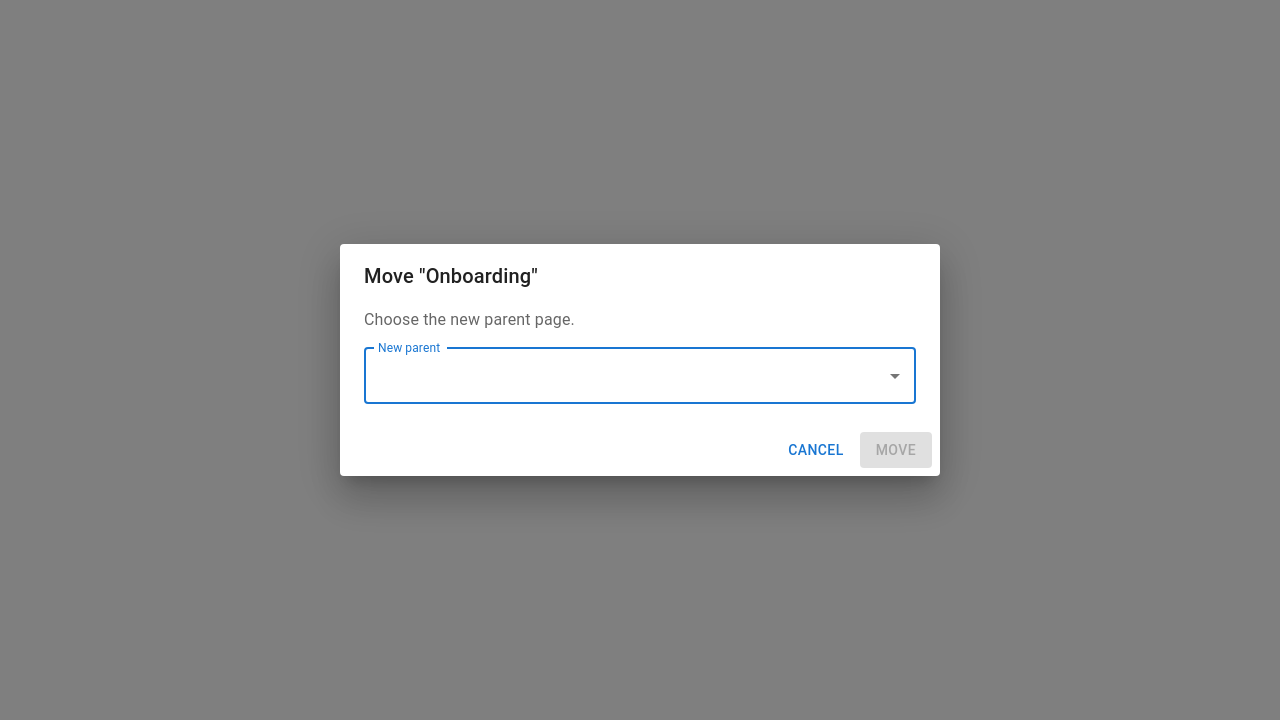
MovePageDialog › warns and relabels the button when moving under a newly-restricted parent
Press the mouse on the dropdown labelled "New parent" at (625, 376), box [373, 357, 877, 395]
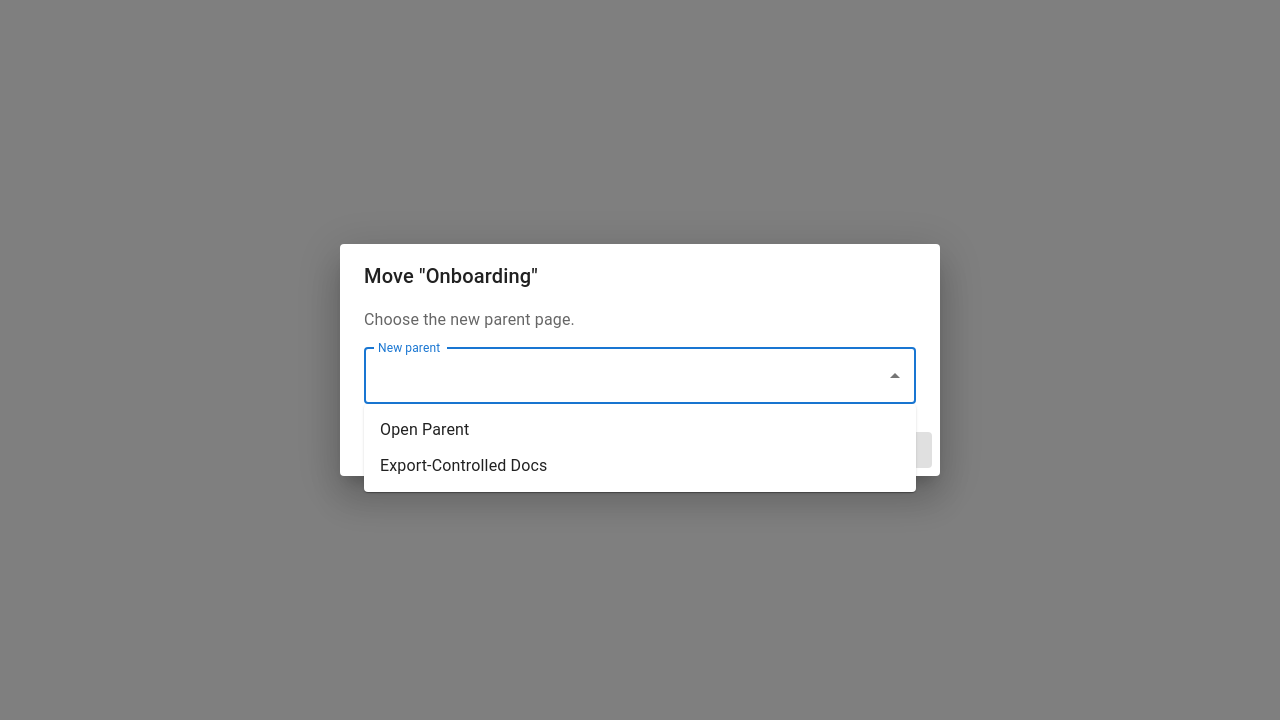
Type "Export-Controlled" into the dropdown labelled "New parent" at (625, 376), box [373, 357, 877, 395]
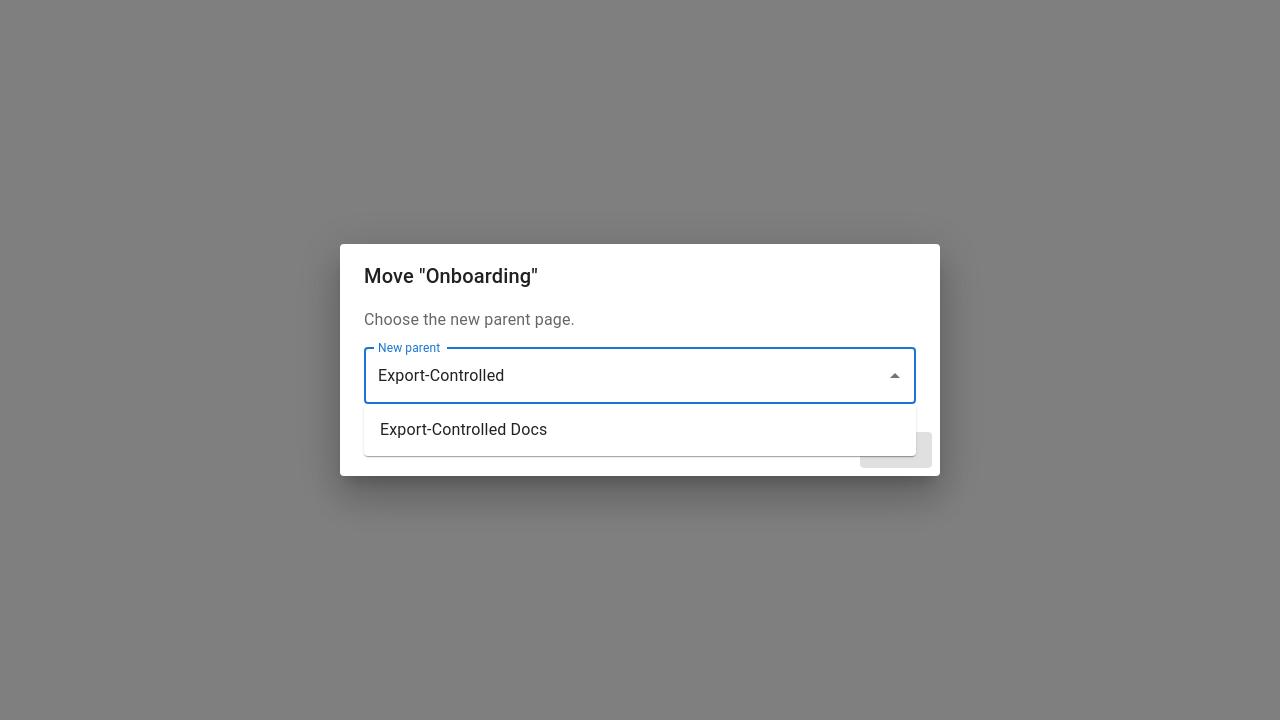
Click the option "Export-Controlled Docs" at (464, 430), box [380, 420, 547, 439]
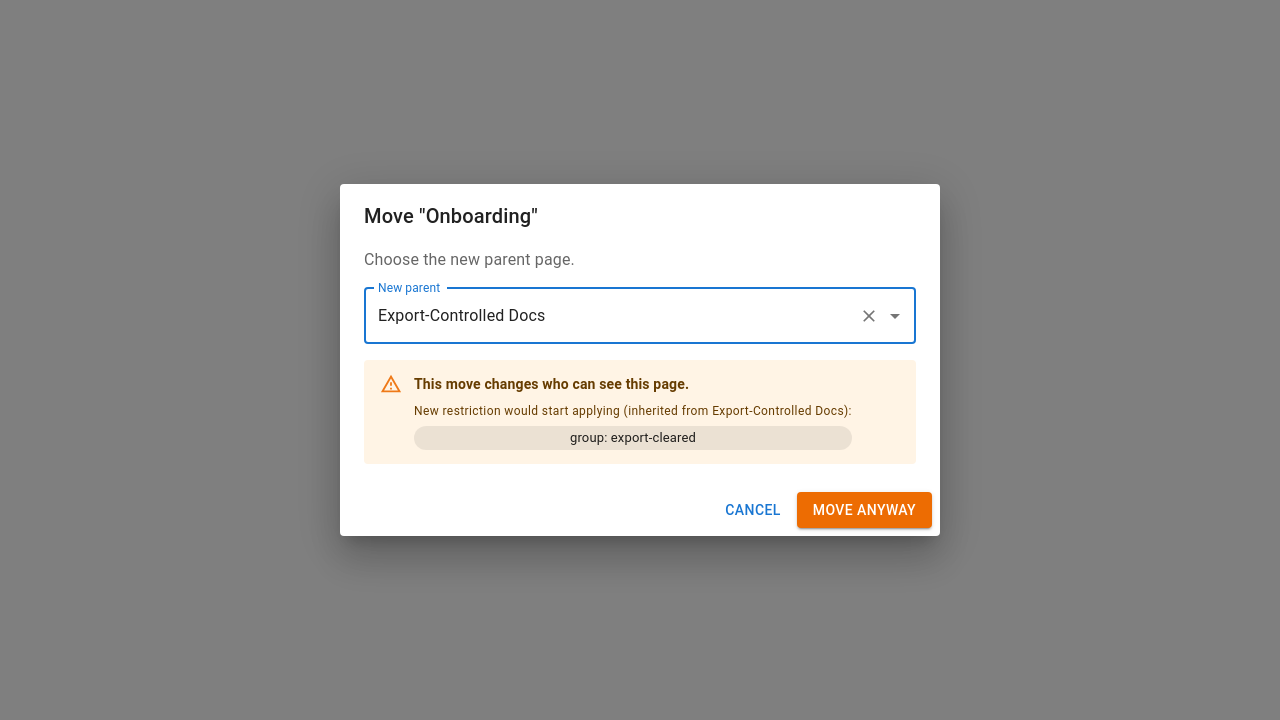
Expected: the text "This move changes who can see this page." is shown, [414, 376, 689, 392]
Expected: the text "group: export-cleared" is shown, [562, 428, 704, 448]
Expected: the button "Move anyway" is enabled, [797, 492, 932, 528]
